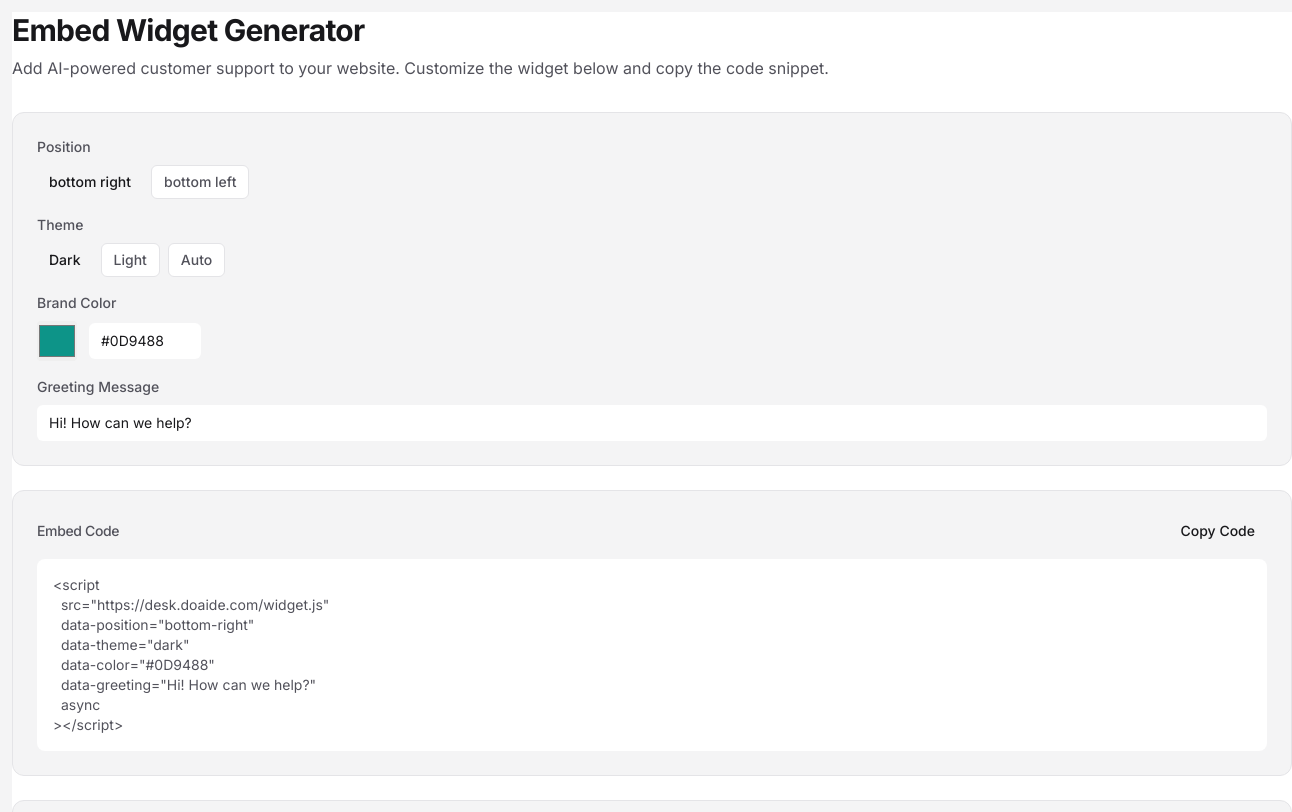
Test: EmbedGenerator › updates position in snippet
Click the button "bottom left" at [200, 182], box [151,165,249,199]
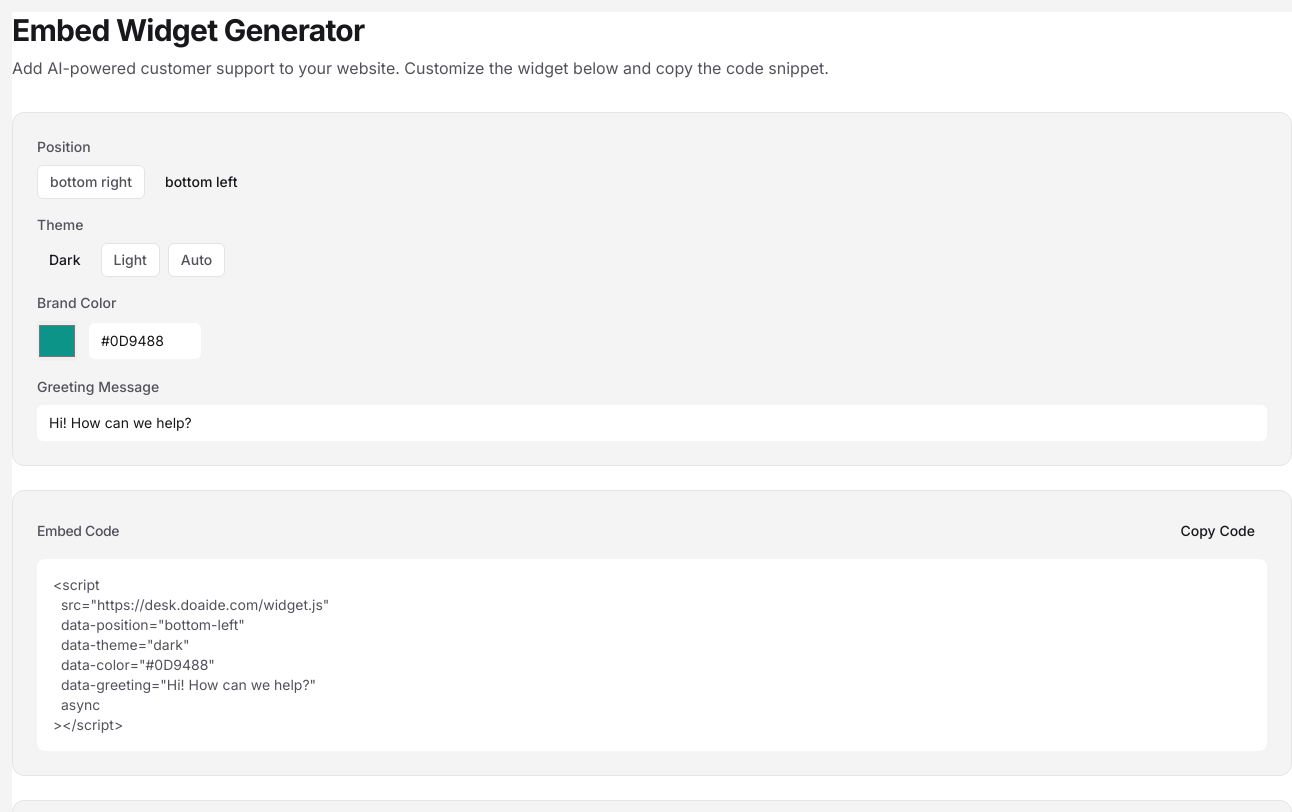
Result: the text "data-position=\"bottom-left\"" is shown at [53,576,329,733]
